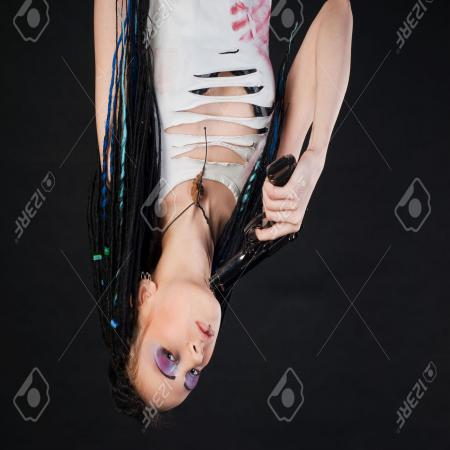Pistol: (190, 152, 304, 294)
